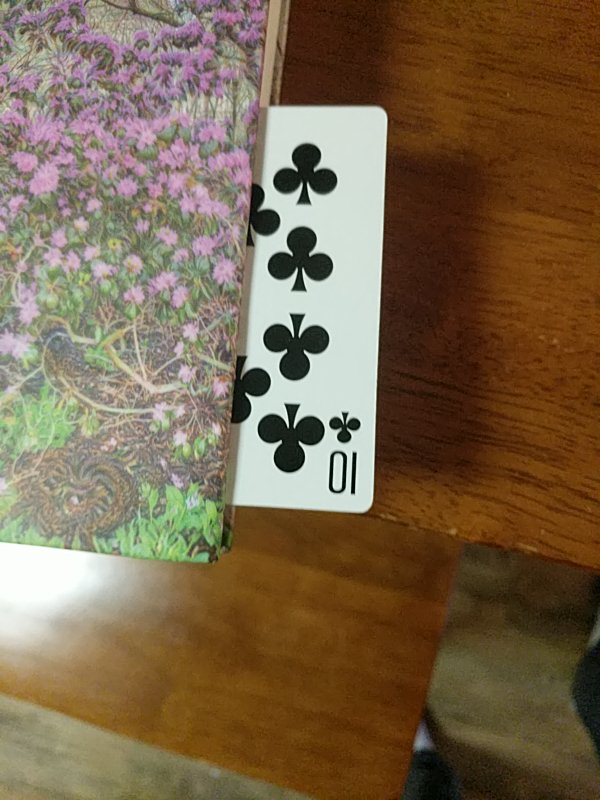Clubs: (211, 103, 391, 508)
